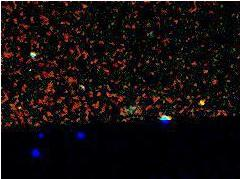star: (186, 92, 216, 122)
